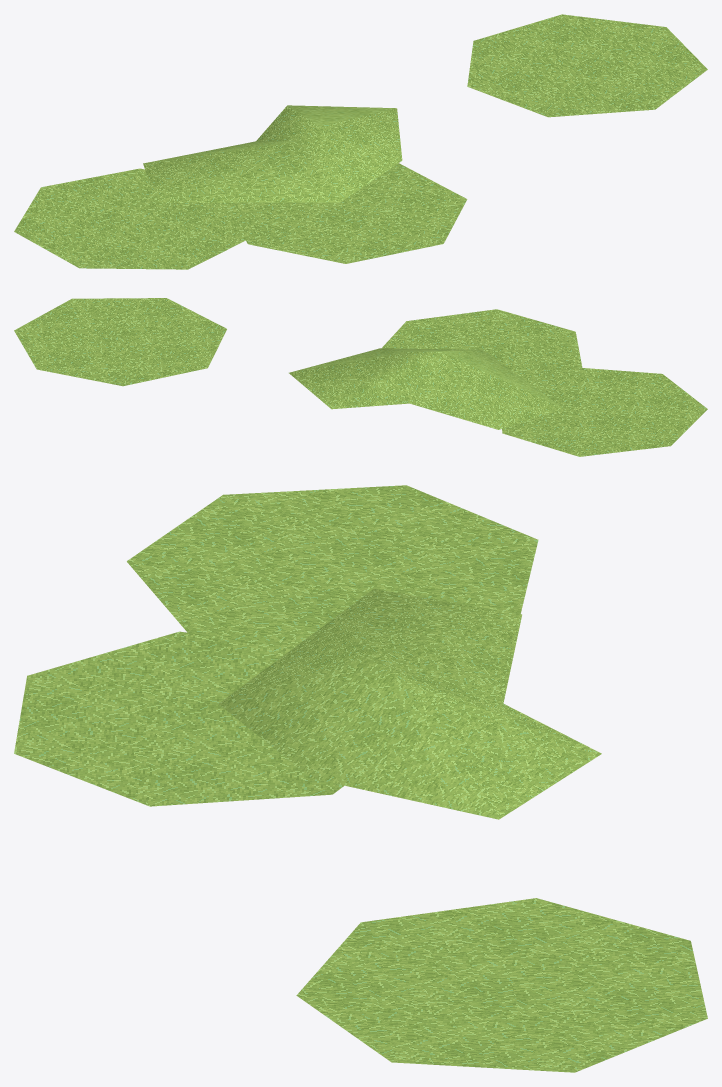
File: kd_stage_1364a3_5_0.glb
3 renders of one model, top to bottom at view 1: azimuth 30°, elevation 25°; view 2: azimuth 150°, elevation 25°; view 3: azimuth 270°, elevation 25°, orthographic. The views are drawn at different scales.
Parts seen in each view (by area): view 1: kd_stage_1364a3_5_0; view 2: kd_stage_1364a3_5_0; view 3: kd_stage_1364a3_5_0.
Boxes of the visible parts, x1,y1,x2,y2 form: kd_stage_1364a3_5_0: [14, 14, 707, 269]; kd_stage_1364a3_5_0: [14, 298, 707, 456]; kd_stage_1364a3_5_0: [14, 485, 707, 1072].
Size of the model in its own units: 443 by 22.27 by 223.
Materials: 1 (1 with a texture image).
